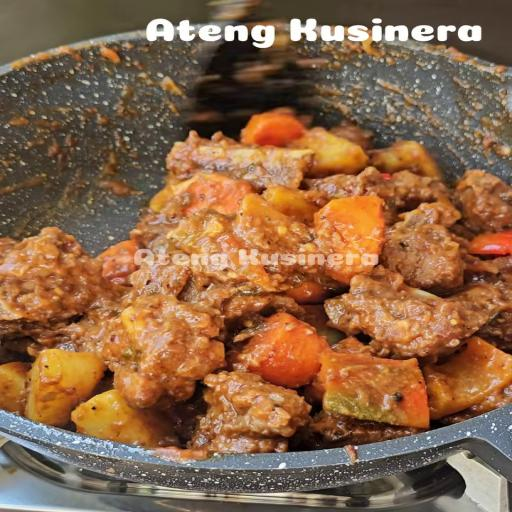pork caldereta: (0, 102, 511, 451)
